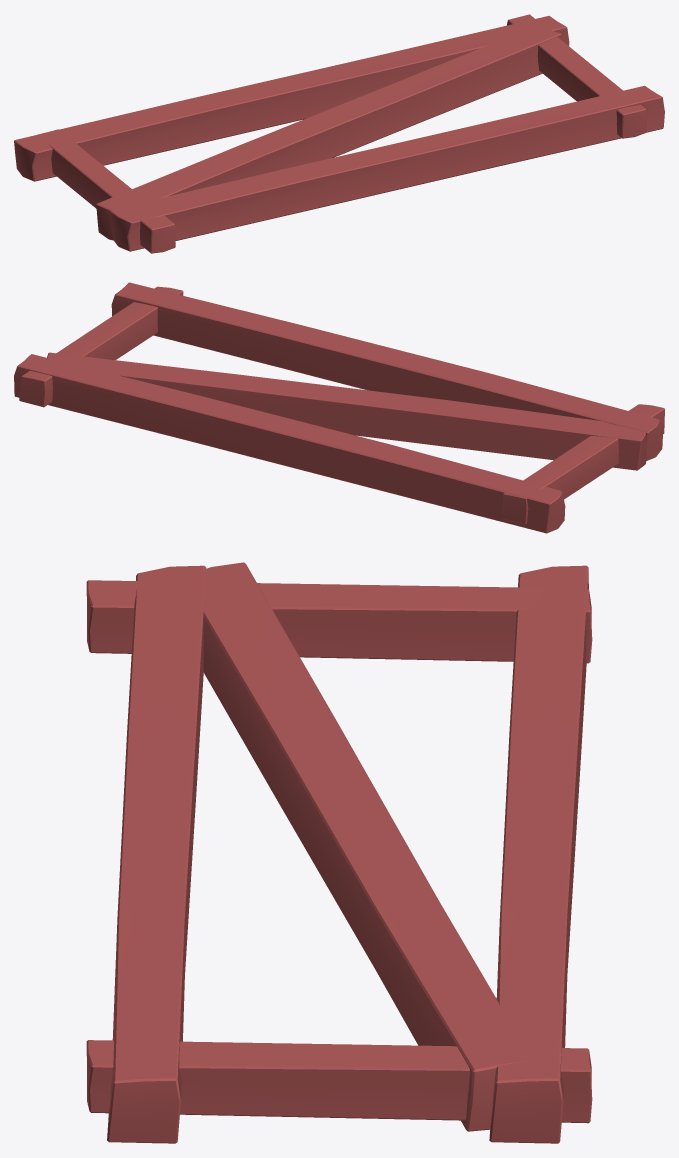
File: Beam_Structure_08_Lod0.fbx
3 views of the same model, one above another, from view 1: azimuth 30°, elevation 25°; view 2: azimuth 150°, elevation 25°; view 3: azimuth 270°, elevation 25° (orthographic). The views are drawn at different scales.
Visible parts, largest first — view 1: Beam_Structure_08_Lod0; view 2: Beam_Structure_08_Lod0; view 3: Beam_Structure_08_Lod0.
Boxes of the visible parts, x1,y1,x2,y2 form: Beam_Structure_08_Lod0: [14, 14, 664, 253]; Beam_Structure_08_Lod0: [14, 282, 664, 533]; Beam_Structure_08_Lod0: [86, 562, 592, 1143].
Bounding box in the file's own units: 322 × 18.94 × 131.
